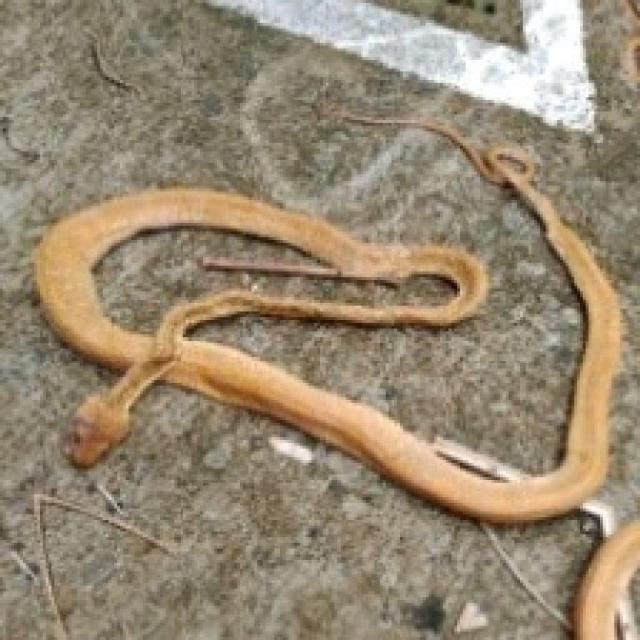philippine cat snake: (34, 120, 620, 520), (91, 226, 457, 334), (571, 520, 637, 637)
